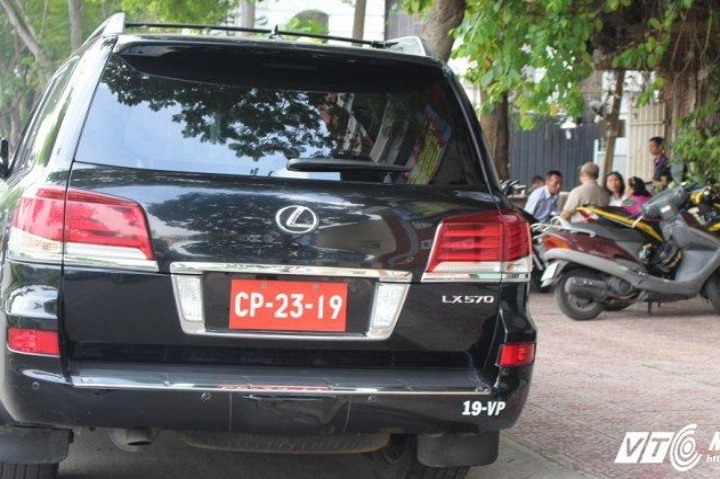plate: (228, 277, 347, 337)
